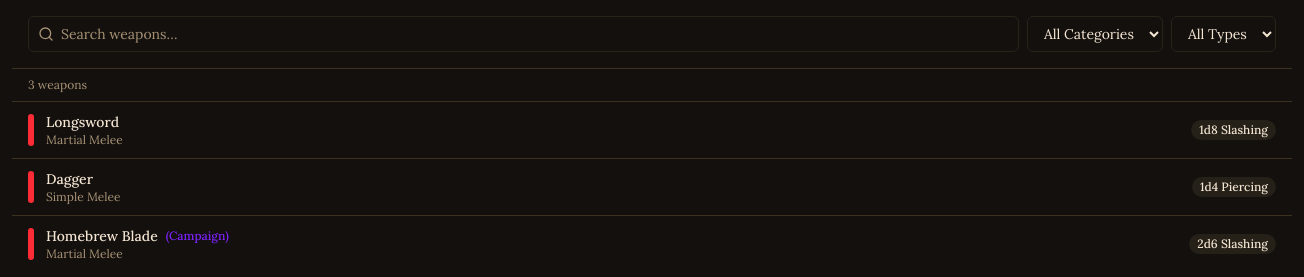
Scenario: ItemsTab › filters by name search
Check: the text "Dagger" is shown, box [46,169,93,189]
Step 1. Type "dag" into the field with test id "item-search" → (524, 34), box [28,16,1019,52]
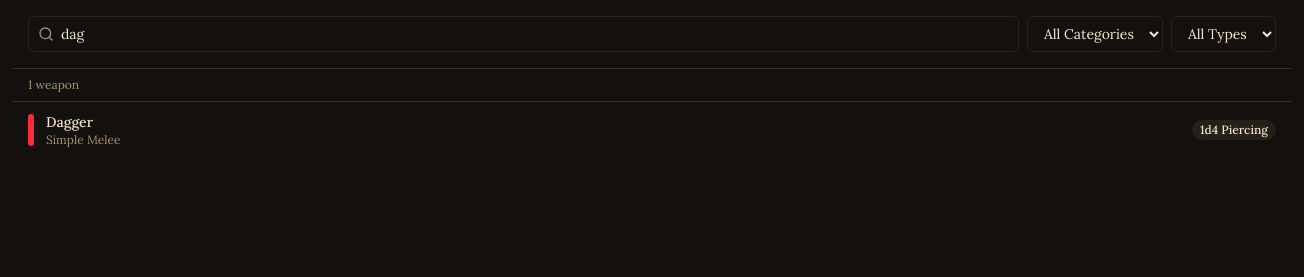
Check: the text "Dagger" is shown, box [46,112,93,132]
Check: the button "Longsword" is gone
